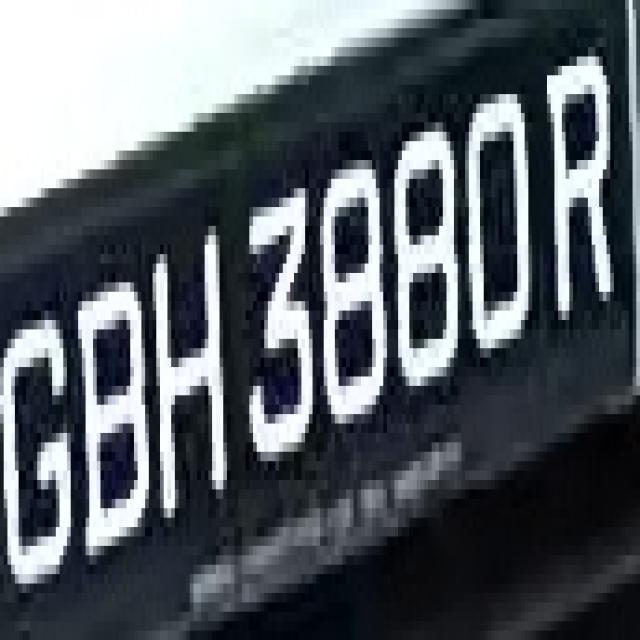0: (462, 56, 540, 386)
3: (238, 151, 316, 480)
8: (384, 104, 462, 414), (312, 141, 390, 433)
B: (78, 245, 156, 555)
G: (4, 273, 74, 583)
H: (138, 216, 234, 546)
R: (536, 38, 618, 338)
